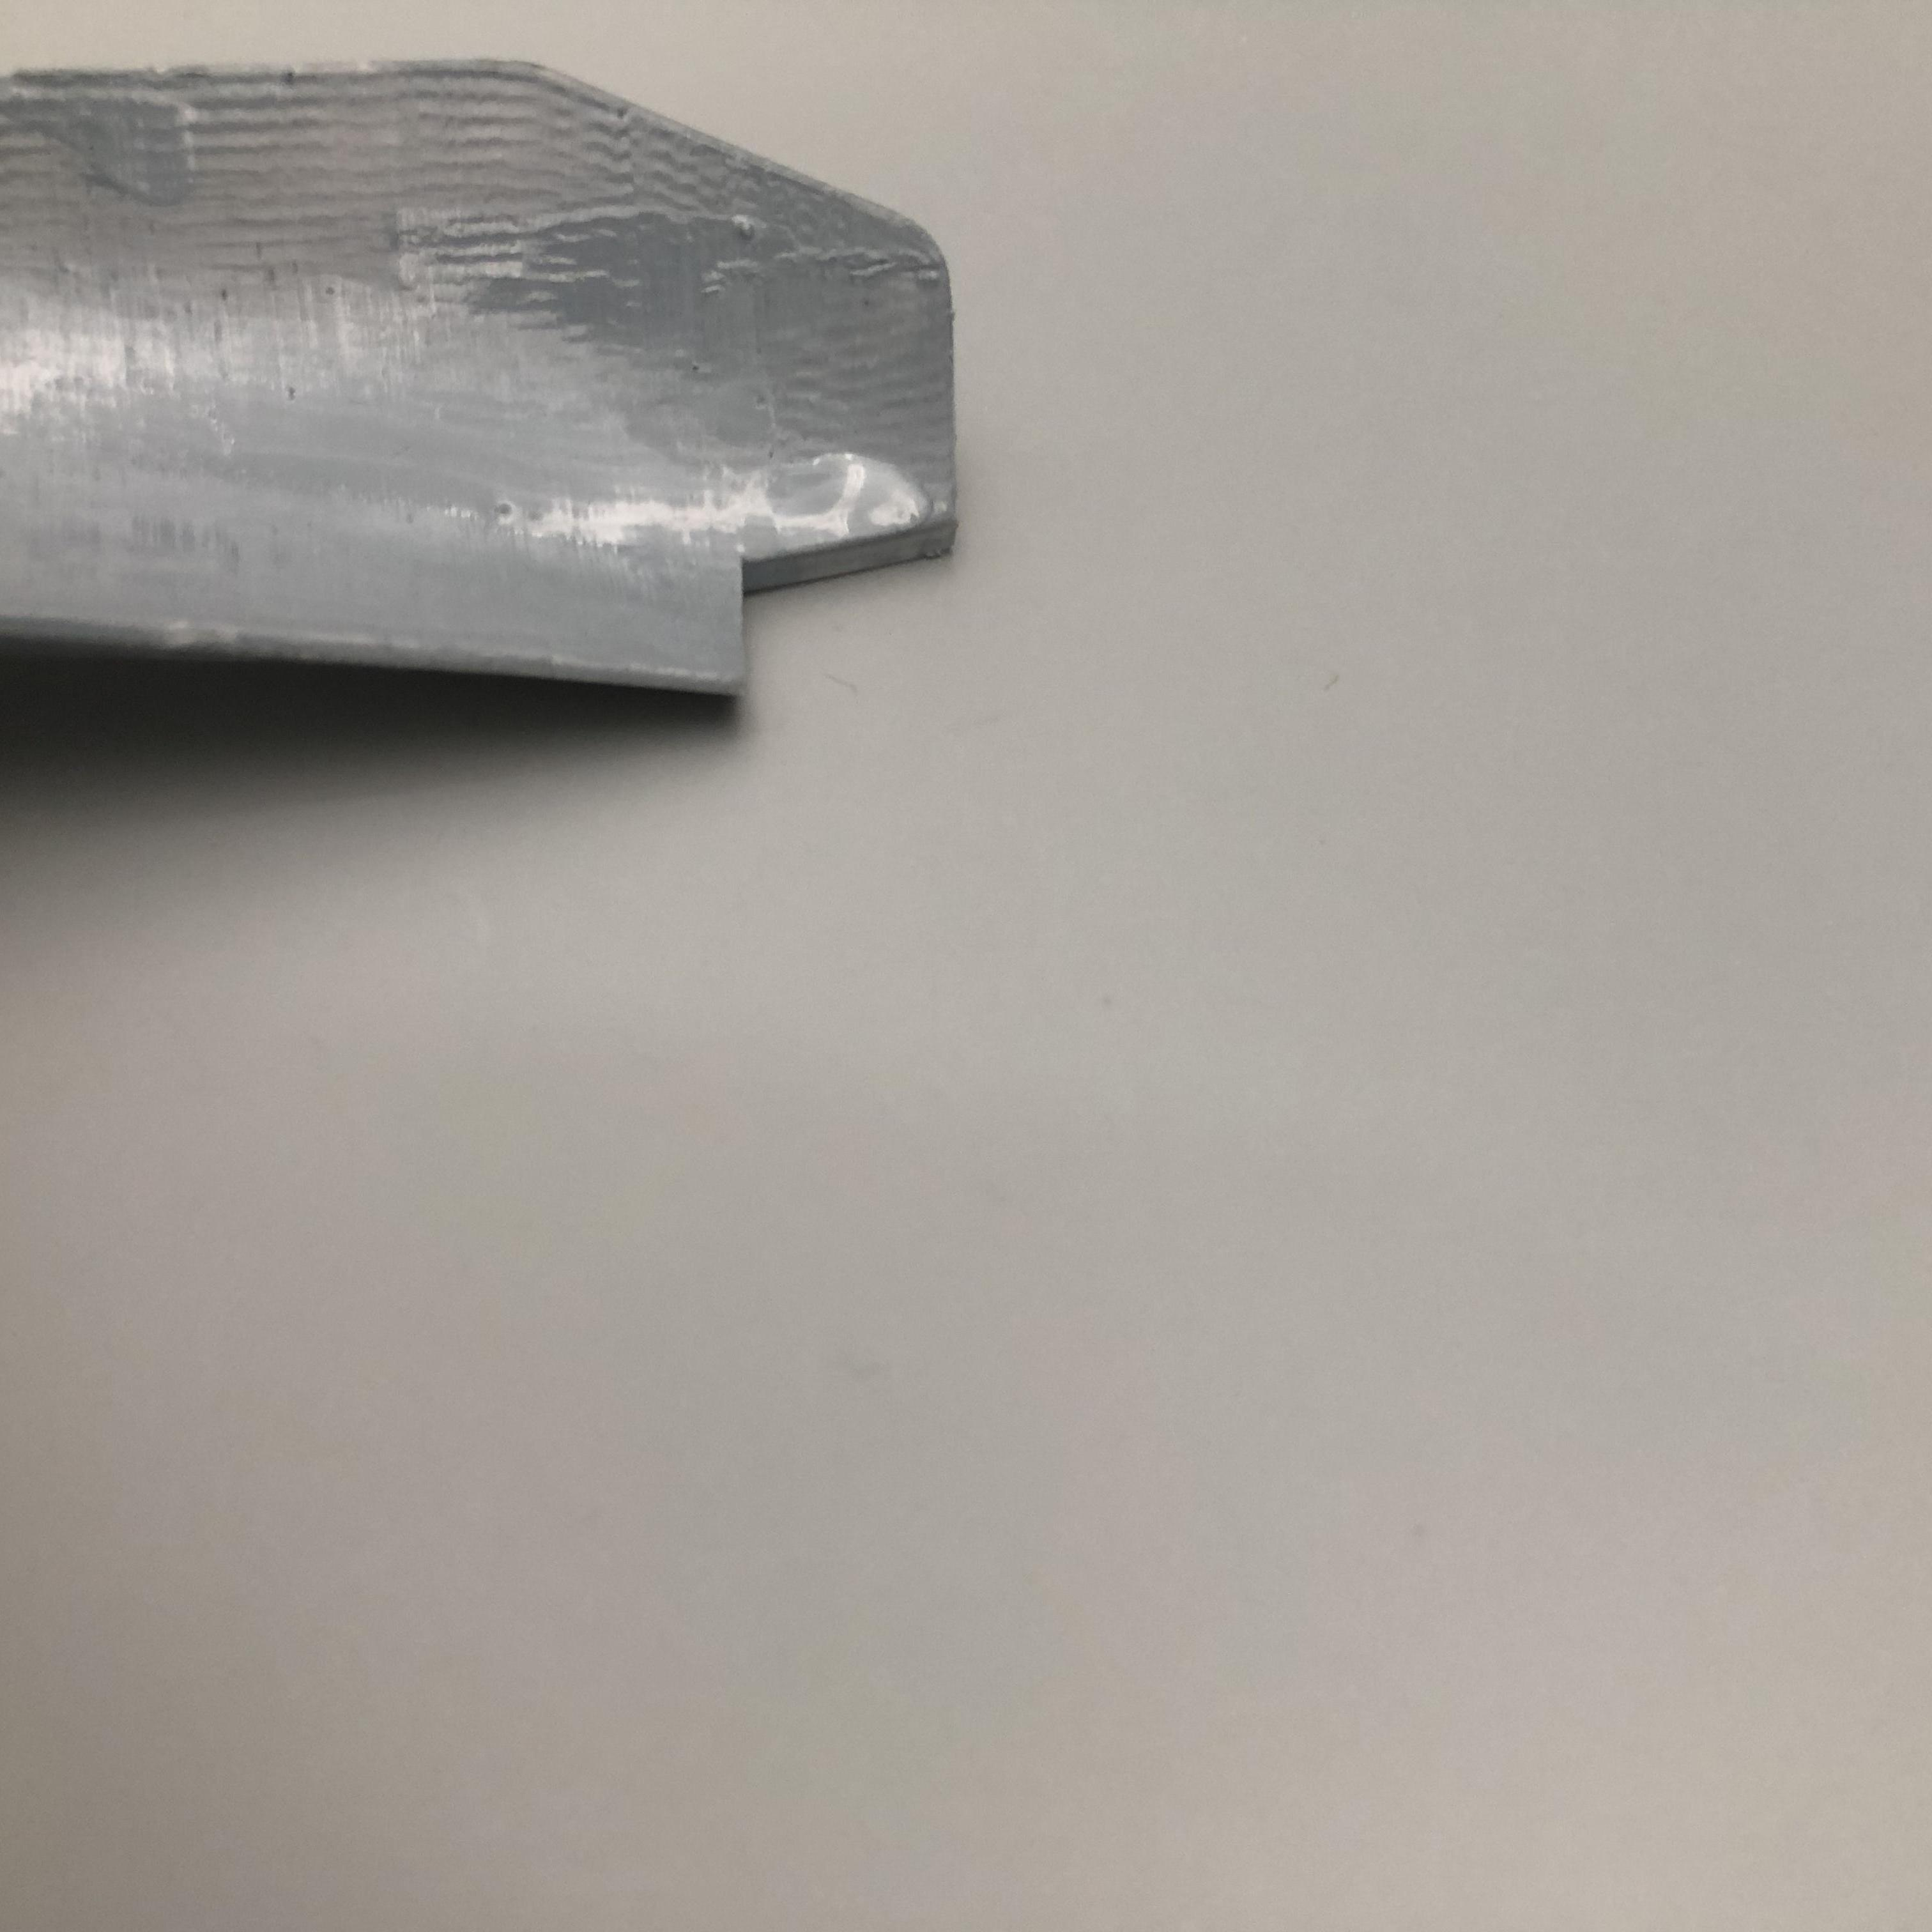fracture: (715, 522, 920, 692)
